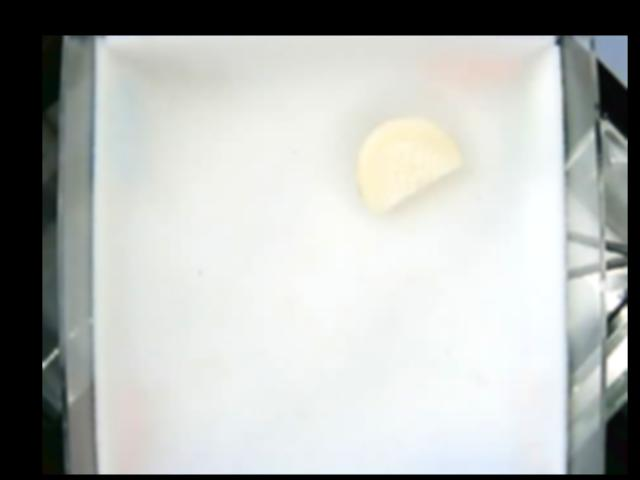Mooli: (357, 118, 464, 212)
